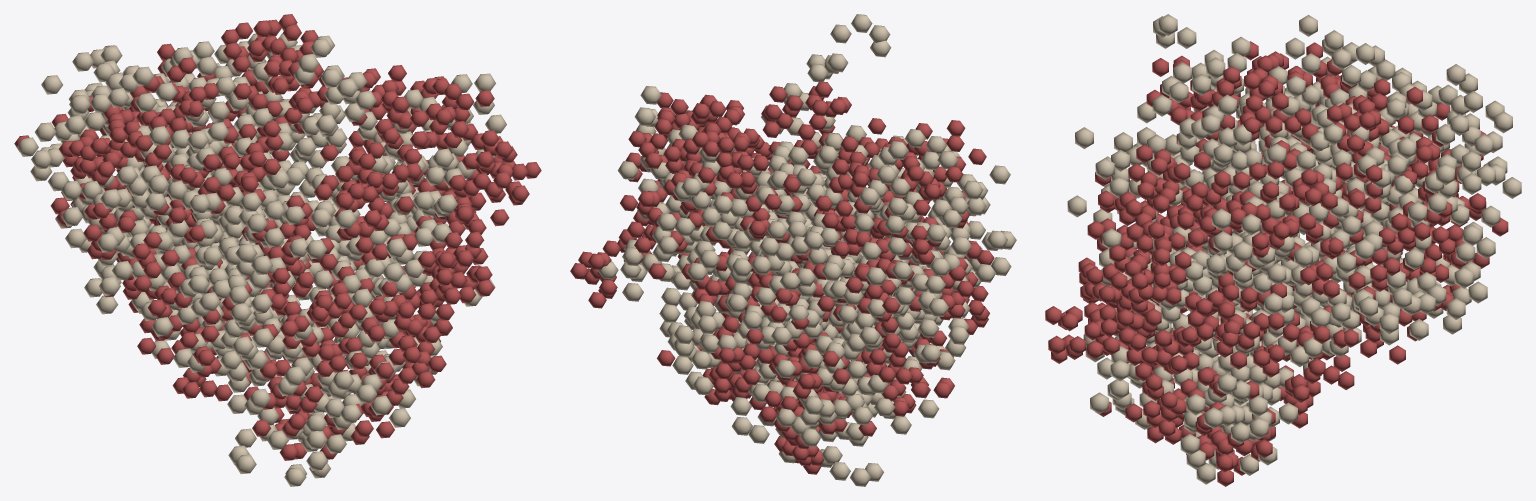
Rendered from ribosome_80s.glb.
The picture shows the model from 3 angles, left to right: view 1: azimuth 30°, elevation 25°; view 2: azimuth 150°, elevation 25°; view 3: azimuth 270°, elevation 25°; orthographic projection. The views are drawn at different scales.
Bounding box in the file's own units: 1.71 × 1.87 × 1.77.
